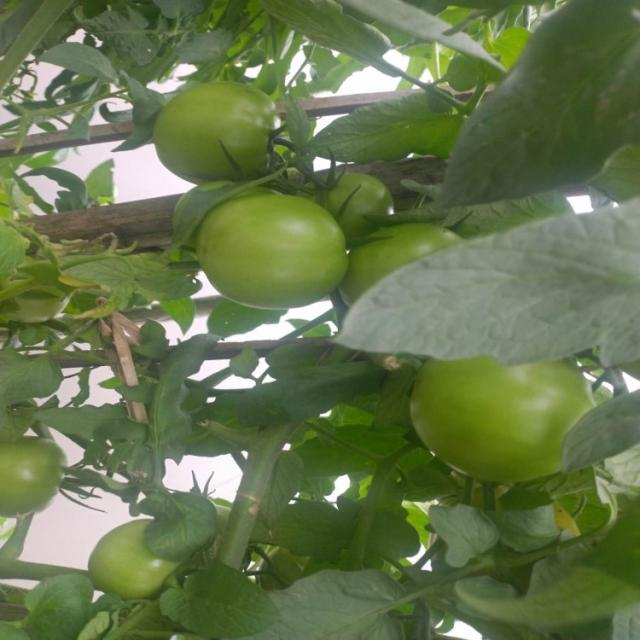tomato: (407, 343, 621, 481), (189, 181, 382, 319), (146, 74, 259, 178), (322, 215, 469, 282), (1, 435, 93, 524), (83, 521, 182, 596), (313, 150, 398, 221)
